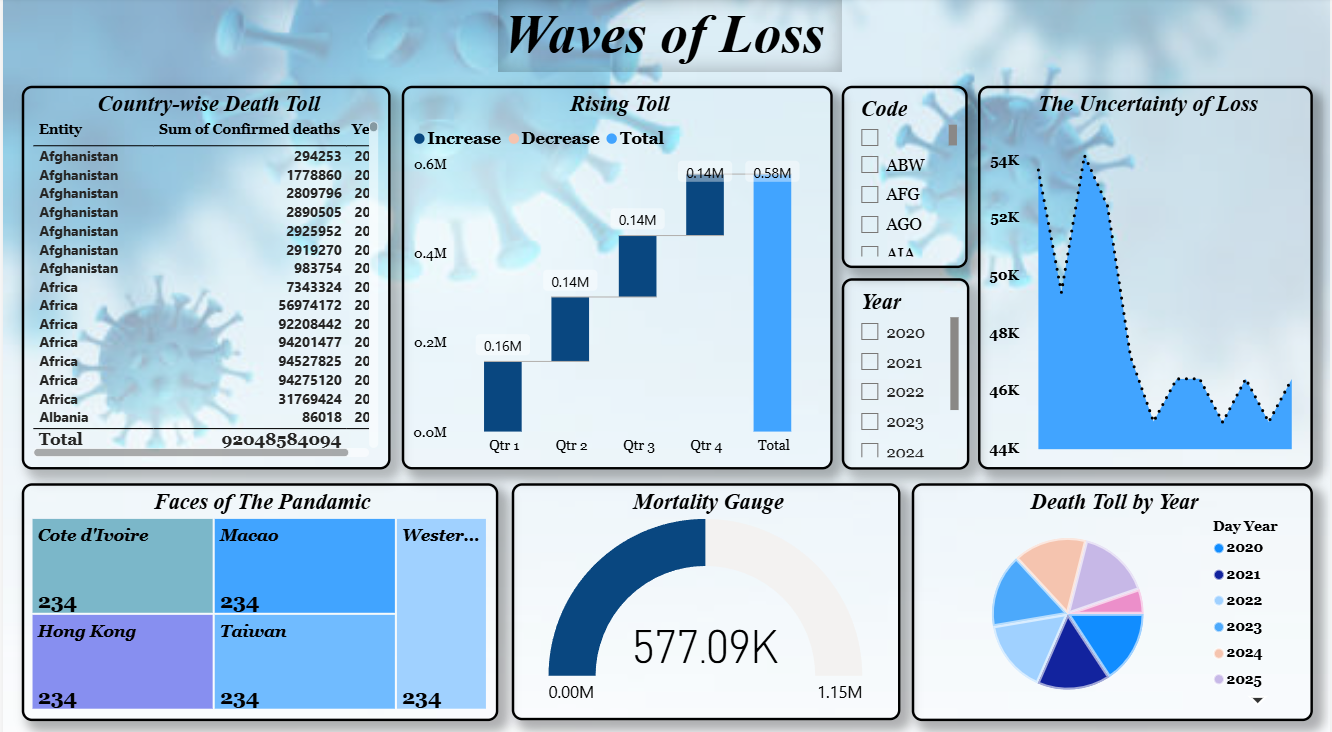

What the dashboard file says about the page in this screenshot:
{"tool":"powerbi","page":{"name":"Page 2","canvas":[1280,720],"ordinal":1},"visuals":[{"type":"textbox","box":[477.8,0,331.8,72.4],"z":0},{"type":"tableEx","title":"Country-wise Death Toll","fields":{"Values":["excess-deaths-cumulative-economist-single-entity.Entity","Sum(excess-deaths-cumulative-economist-single-entity.Confirmed deaths)","excess-deaths-cumulative-economist-single-entity.Day.Variation.Date Hierarchy.Year"]},"box":[18.1,85.7,355.9,370.4],"z":1000},{"type":"treemap","title":"Faces of The Pandamic","fields":{"Group":["excess-deaths-cumulative-economist-single-entity.Entity"],"Values":["CountNonNull(excess-deaths-cumulative-economist-single-entity.Central estimate)"]},"box":[18.1,469.3,459.7,229.2],"z":2000},{"type":"waterfallChart","title":"Rising Toll","fields":{"Category":["excess-deaths-cumulative-economist-single-entity.Day.Variation.Date Hierarchy.Quarter"],"Y":["CountNonNull(excess-deaths-cumulative-economist-single-entity.Central estimate)"]},"box":[384.9,85.7,416.2,370.4],"z":3000},{"type":"gauge","title":"Mortality Gauge","fields":{"TargetValue":["Sum(excess-deaths-cumulative-economist-single-entity.Confirmed deaths)"],"Y":["CountNonNull(excess-deaths-cumulative-economist-single-entity.Central estimate)"]},"box":[491,469,375,229],"z":4000},{"type":"pieChart","title":"Death Toll by Year","fields":{"Y":["CountNonNull(excess-deaths-cumulative-economist-single-entity.Central estimate)"],"Category":["excess-deaths-cumulative-economist-single-entity.Day.Variation.Date Hierarchy.Year"]},"box":[877.1,469.3,387.3,229.2],"z":5000},{"type":"slicer","fields":{"Values":["excess-deaths-cumulative-economist-single-entity.Code"]},"box":[809.5,85.7,121.9,176.1],"z":6000},{"type":"stackedAreaChart","title":"The Uncertainty of Loss","fields":{"Y":["CountNonNull(excess-deaths-cumulative-economist-single-entity.Central estimate)"],"Category":["excess-deaths-cumulative-economist-single-entity.Day.Variation.Date Hierarchy.Month"]},"box":[941,85.7,323.3,370.4],"z":7000},{"type":"slicer","fields":{"Values":["excess-deaths-cumulative-economist-single-entity.Day.Variation.Date Hierarchy.Year"]},"box":[809.5,271.4,123.1,184.6],"z":7001}]}

Visuals, with their boxes in screenshot pixels (x1, y1, x2, y2), scaled from the page's 1280x720 canvas onto the 1332x732 screenshot:
textbox: pyautogui.locateOnScreen(497, 0, 842, 74)
"Country-wise Death Toll" tableEx: pyautogui.locateOnScreen(19, 87, 389, 464)
"Faces of The Pandamic" treemap: pyautogui.locateOnScreen(19, 477, 497, 710)
"Rising Toll" waterfallChart: pyautogui.locateOnScreen(401, 87, 834, 464)
"Mortality Gauge" gauge: pyautogui.locateOnScreen(511, 477, 901, 710)
"Death Toll by Year" pieChart: pyautogui.locateOnScreen(913, 477, 1316, 710)
slicer - excess-deaths-cumulative-economist-single-entity.Code: pyautogui.locateOnScreen(842, 87, 969, 266)
"The Uncertainty of Loss" stackedAreaChart: pyautogui.locateOnScreen(979, 87, 1316, 464)
slicer - excess-deaths-cumulative-economist-single-entity.Day.Variation.Date Hierarchy.Year: pyautogui.locateOnScreen(842, 276, 970, 464)
